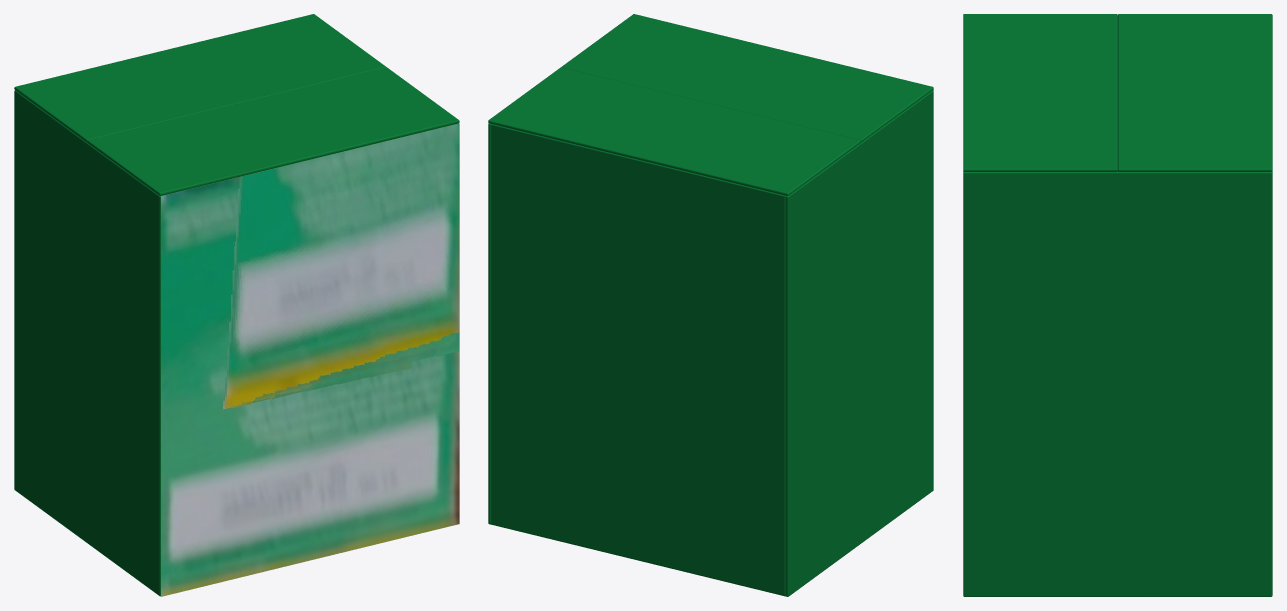
3 views of the same model, side by side, from view 1: azimuth 30°, elevation 25°; view 2: azimuth 150°, elevation 25°; view 3: azimuth 270°, elevation 25° (orthographic). The views are drawn at different scales.
Parts seen in each view (by area): view 1: small_food_carton__body, small_food_carton__flap_front, small_food_carton__flap_back; view 2: small_food_carton__body, small_food_carton__flap_back, small_food_carton__flap_front; view 3: small_food_carton__body, small_food_carton__flap_front, small_food_carton__flap_back.
Boxes of the visible parts, left/top/right/bottom form: small_food_carton__body: left=14, top=90, right=459, bottom=596; small_food_carton__flap_front: left=87, top=67, right=459, bottom=195; small_food_carton__flap_back: left=14, top=14, right=386, bottom=142; small_food_carton__body: left=488, top=90, right=933, bottom=596; small_food_carton__flap_back: left=488, top=67, right=860, bottom=195; small_food_carton__flap_front: left=561, top=14, right=933, bottom=142; small_food_carton__body: left=963, top=171, right=1272, bottom=596; small_food_carton__flap_front: left=963, top=14, right=1117, bottom=171; small_food_carton__flap_back: left=1118, top=14, right=1272, bottom=171.
Bounding box in the file's own units: 0.0773 × 0.0993 × 0.0652.
2 materials, 1 textured.
